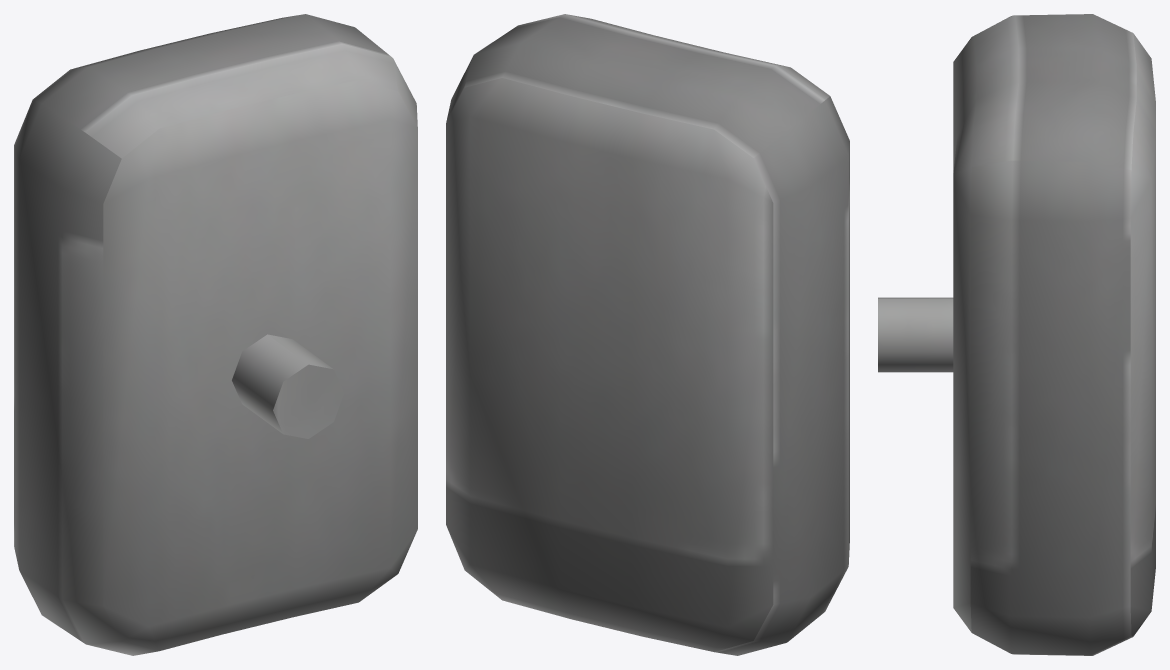
File: Hamal_Battery_1.obj
3 views of the same model, side by side, from view 1: azimuth 30°, elevation 25°; view 2: azimuth 150°, elevation 25°; view 3: azimuth 270°, elevation 25° (orthographic). The views are drawn at different scales.
Parts seen in each view (by area): view 1: Hamal_Battery_1; view 2: Hamal_Battery_1; view 3: Hamal_Battery_1.
Boxes of the visible parts, x1,y1,x2,y2 form: Hamal_Battery_1: [14, 14, 417, 655]; Hamal_Battery_1: [446, 14, 849, 655]; Hamal_Battery_1: [878, 14, 1155, 655].
Size of the model in its own units: 0.252 by 0.375 by 0.175.
